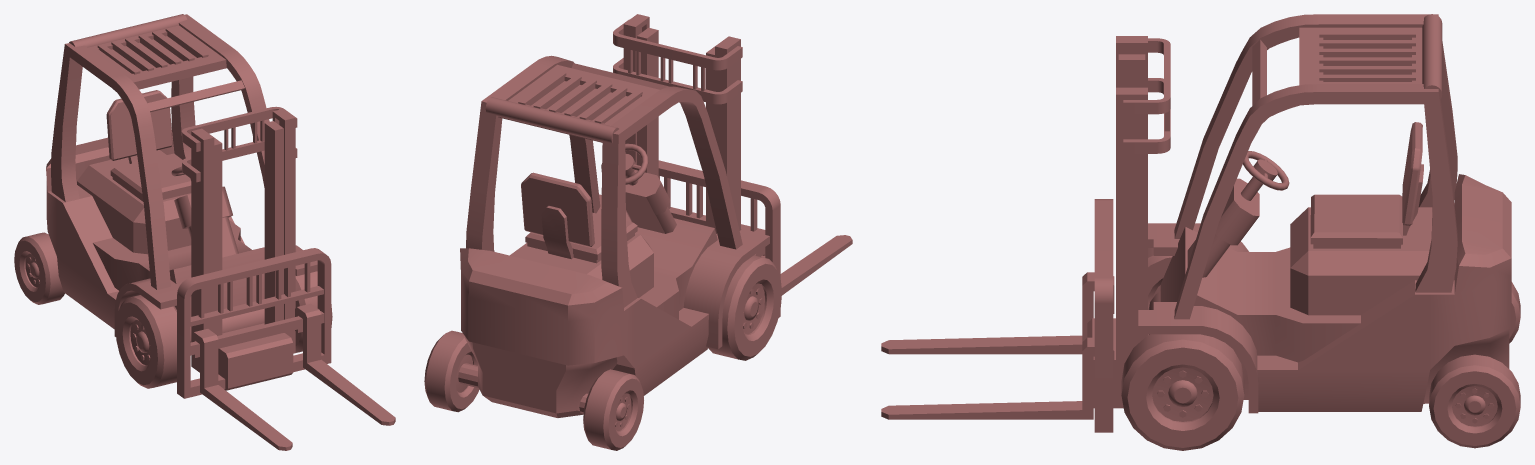
Rendered from Forklift.fbx.
The picture shows the model from 3 angles, left to right: view 1: azimuth 30°, elevation 25°; view 2: azimuth 150°, elevation 25°; view 3: azimuth 270°, elevation 25°; orthographic projection. The views are drawn at different scales.
Visible parts, largest first — view 1: Body, Fork1, Fork3, Wheels_Front, Fork2, Wheels_Rear; view 2: Body, Fork3, Wheels_Rear, Fork1, Wheels_Front, Fork2; view 3: Body, Fork1, Wheels_Front, Fork3, Wheels_Rear, Fork2.
Boxes of the visible parts, box(x1,y1,x2,y2) form: Body: box(46, 14, 317, 342); Fork1: box(177, 248, 395, 450); Fork3: box(182, 106, 297, 372); Wheels_Front: box(115, 271, 332, 388); Fork2: box(214, 121, 283, 335); Wheels_Rear: box(14, 232, 64, 304); Body: box(458, 55, 769, 417); Fork3: box(613, 14, 742, 233); Wheels_Rear: box(424, 330, 643, 450); Fork1: box(658, 160, 852, 317); Wheels_Front: box(708, 255, 781, 360); Fork2: box(637, 27, 714, 227); Body: box(1138, 14, 1511, 413); Fork1: box(881, 199, 1148, 432); Wheels_Front: box(1121, 248, 1244, 450); Fork3: box(1116, 36, 1170, 401); Wheels_Rear: box(1429, 282, 1520, 448); Fork2: box(1118, 54, 1145, 87).
Bounding box in the file's own units: 121 × 177 × 294.
